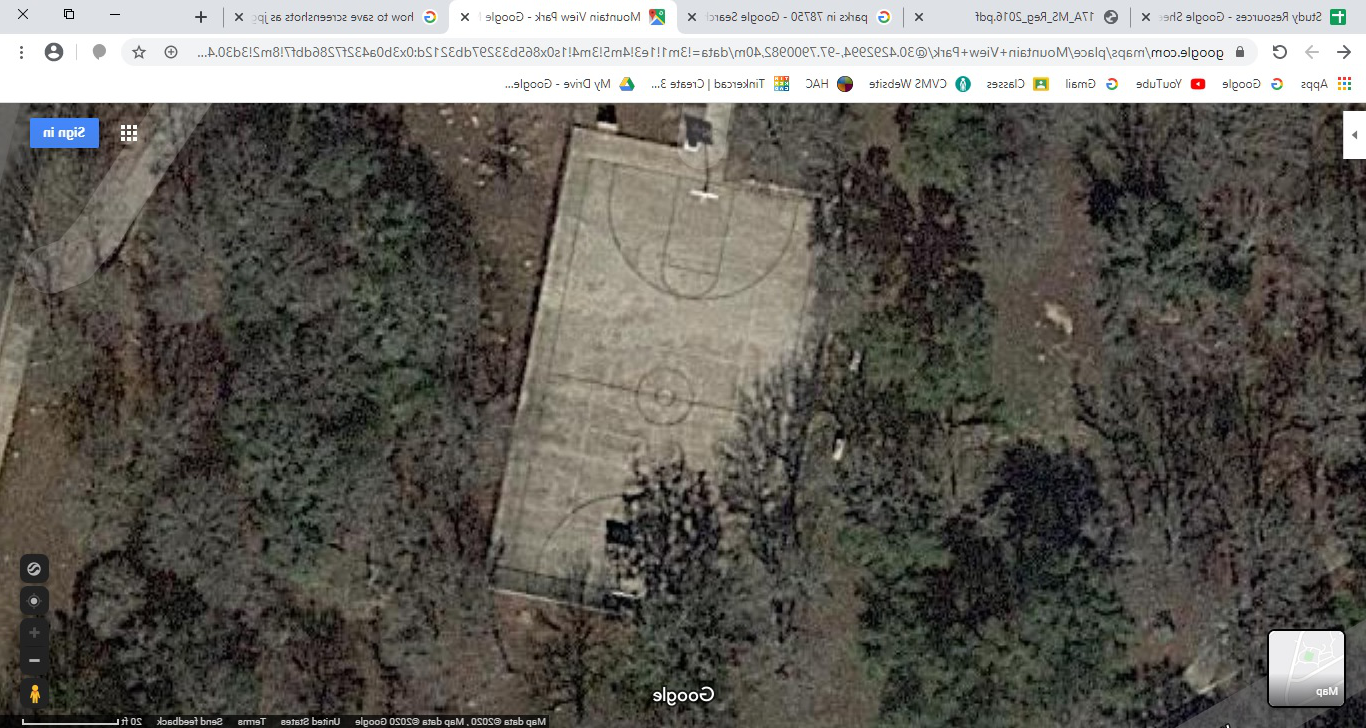basketball: (443, 111, 932, 678)
